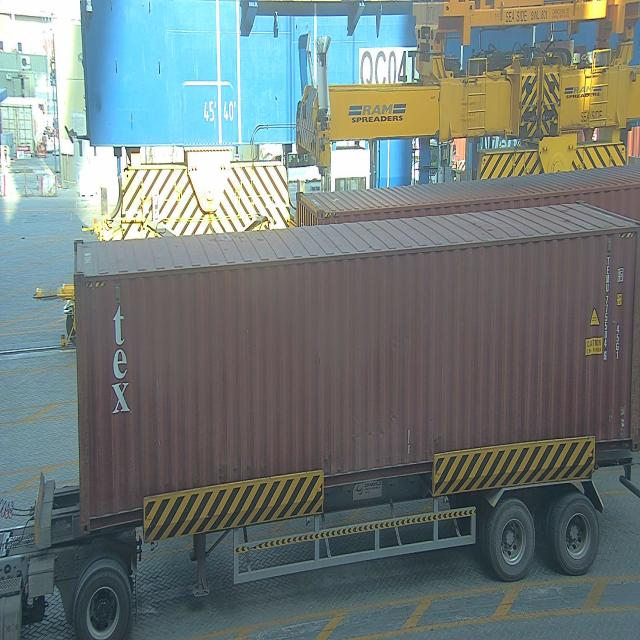dent: (344, 409, 404, 446), (216, 454, 272, 481)
